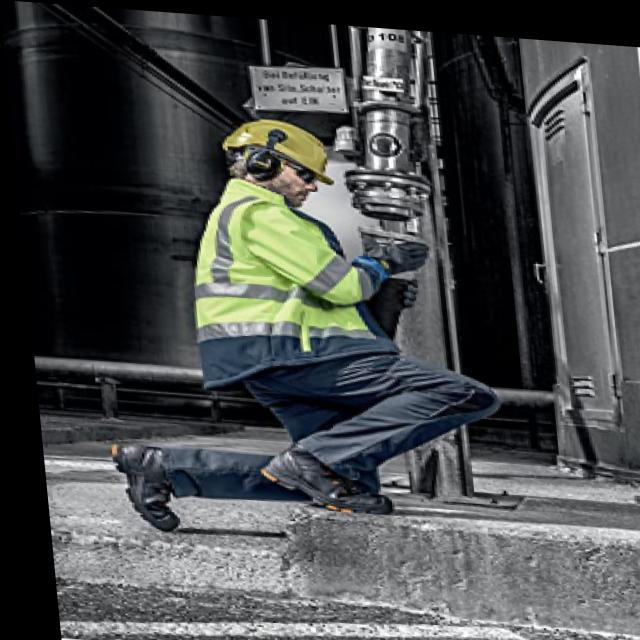hard_hat: (209, 109, 344, 210)
shoes: (93, 427, 408, 552)
vest: (172, 167, 413, 403)
